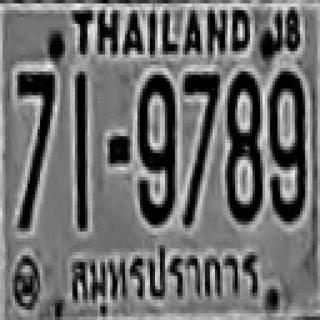N00: (269, 68, 304, 208)
N01: (64, 66, 102, 235)
N07: (180, 72, 218, 225), (15, 68, 52, 225), (182, 70, 218, 213), (182, 72, 218, 174), (182, 72, 218, 164)
N08: (225, 68, 260, 221)
N09: (136, 72, 174, 222), (268, 70, 305, 220)
P57: (60, 238, 265, 318)
